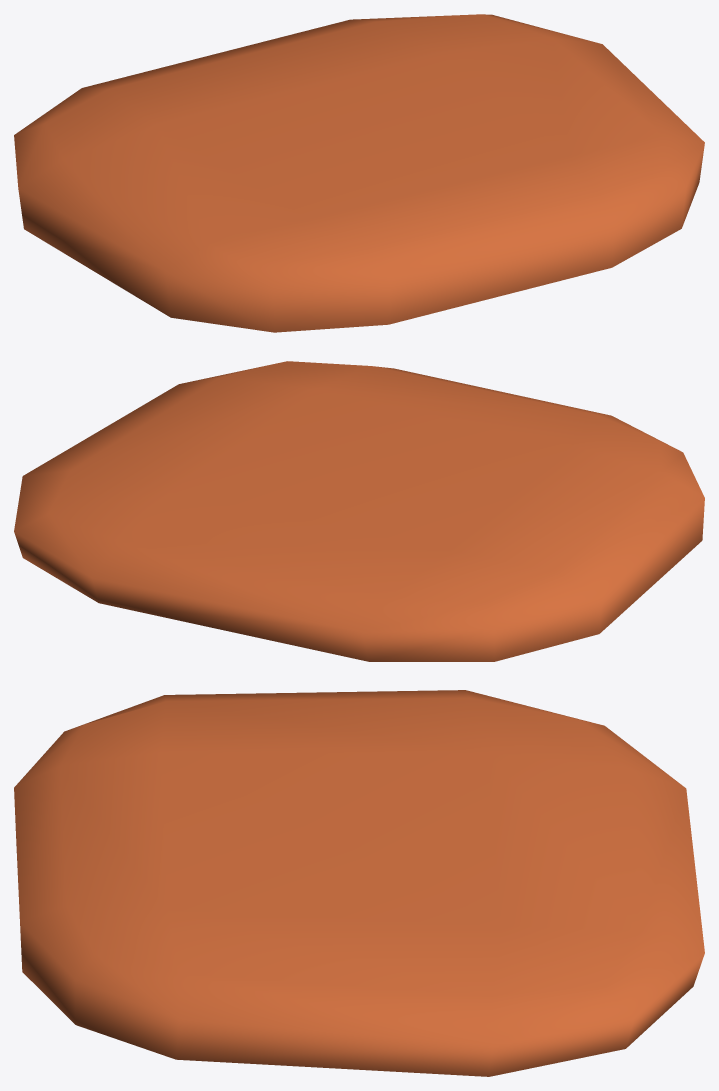
File: rocks_1.obj
3 renders of one model, top to bottom at view 1: azimuth 30°, elevation 25°; view 2: azimuth 150°, elevation 25°; view 3: azimuth 270°, elevation 25°, orthographic. The views are drawn at different scales.
Visible parts, largest first — view 1: rocks_1; view 2: rocks_1; view 3: rocks_1.
Part boxes in pixels (x1,y1,x2,y2): rocks_1: (14,14,704,332); rocks_1: (14,361,704,661); rocks_1: (14,690,704,1076).
Size of the model in its own units: 1.11 by 0.1175 by 0.9431.
